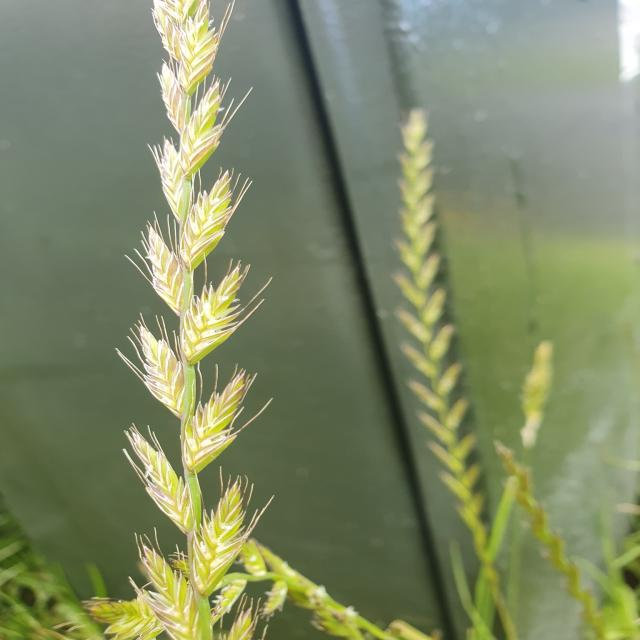Lolium: (77, 1, 283, 639), (394, 108, 492, 535)
